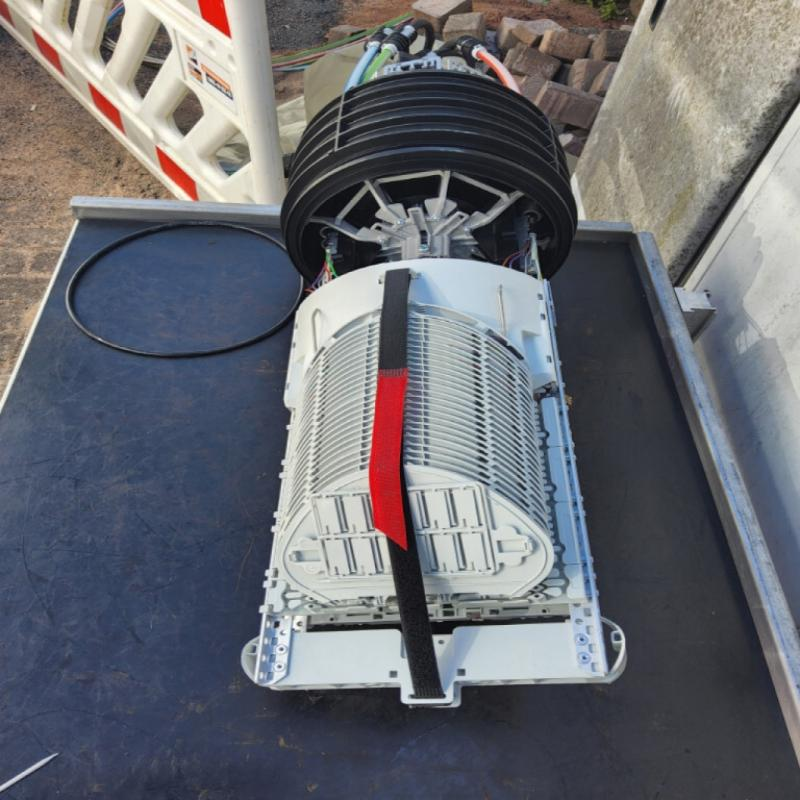NT-Muffen: (283, 81, 646, 712)
